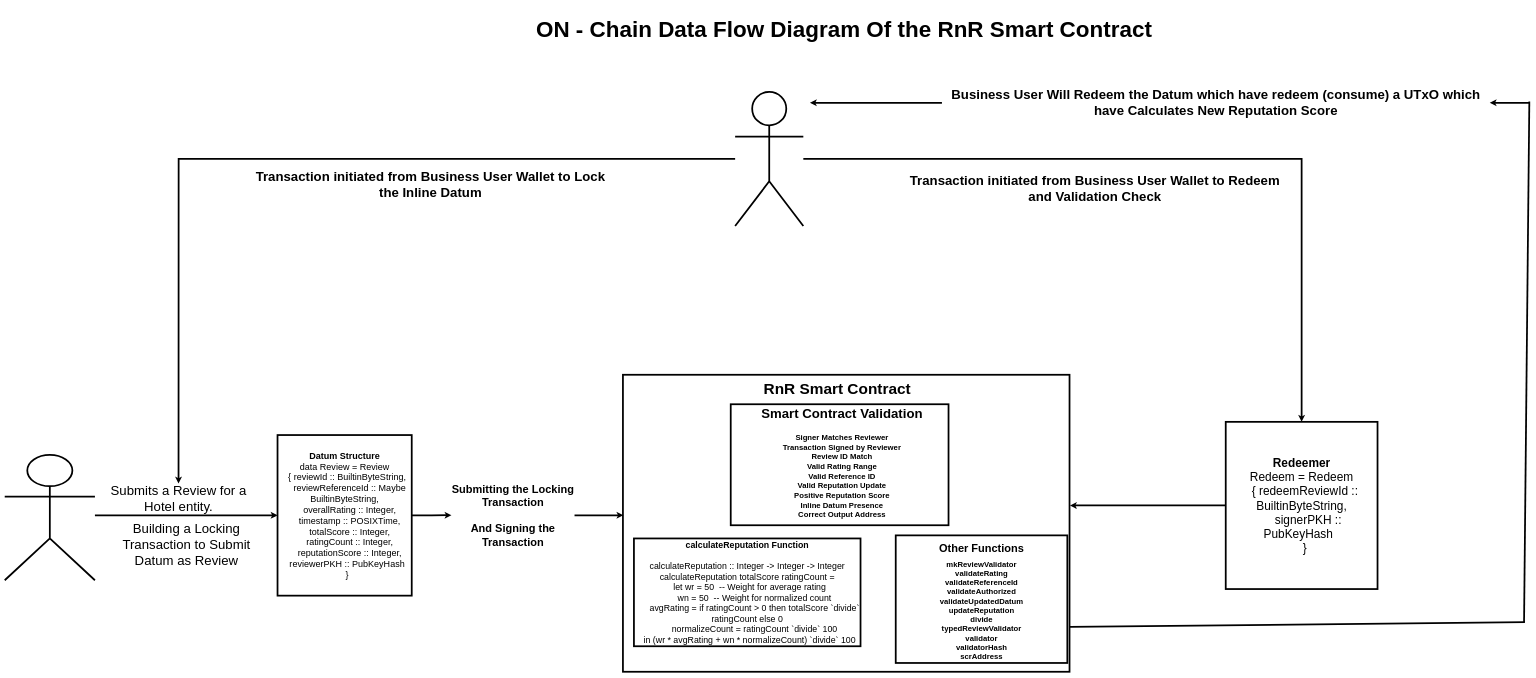
Some shapes in this 1536 by 678 pixel diagram are drawn without their labels. Here are the shapes that lost their labels. From the top down, the centre of each, then its label:
the point at 769,159: Business User (Hotel)
the point at 50,517: Reviewer (Review Data)
